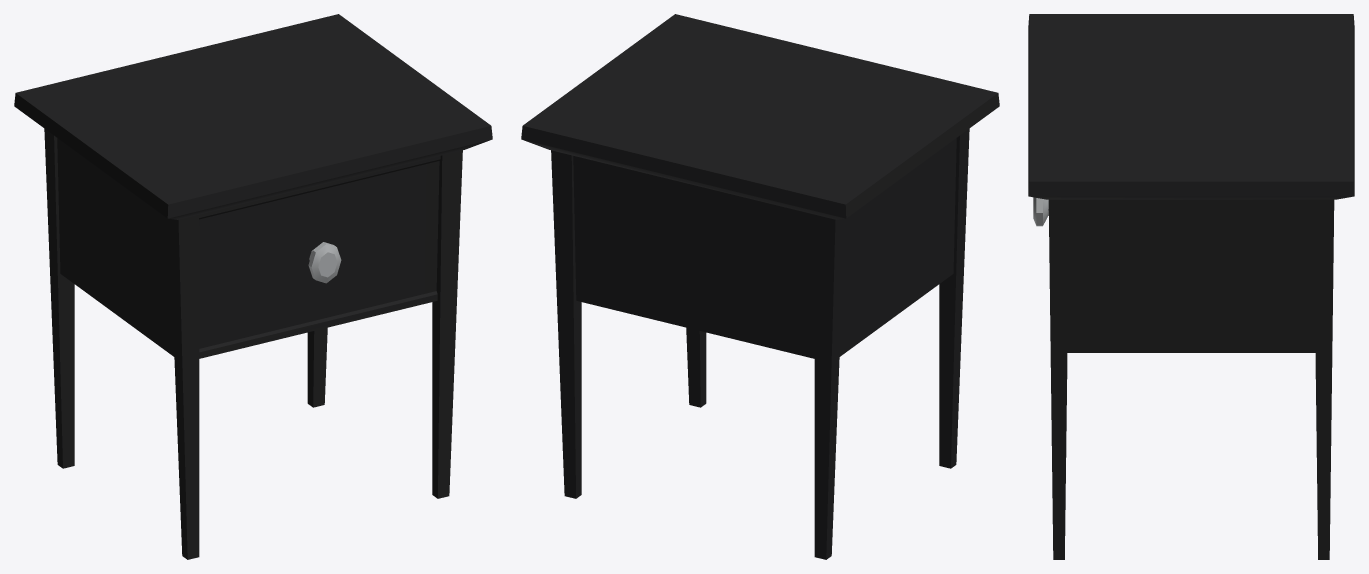
The model's file is pk_end_black.glb.
3 renders of one model, left to right at view 1: azimuth 30°, elevation 25°; view 2: azimuth 150°, elevation 25°; view 3: azimuth 270°, elevation 25°, orthographic. The views are drawn at different scales.
Parts seen in each view (by area): view 1: pk_end_black; view 2: pk_end_black; view 3: pk_end_black.
Boxes of the visible parts, left/top/right/bottom form: pk_end_black: left=14, top=14, right=492, bottom=559; pk_end_black: left=521, top=14, right=999, bottom=559; pk_end_black: left=1028, top=14, right=1354, bottom=559.
Size of the model in its own units: 0.55 by 0.6 by 0.45.
1 material, 1 textured.
